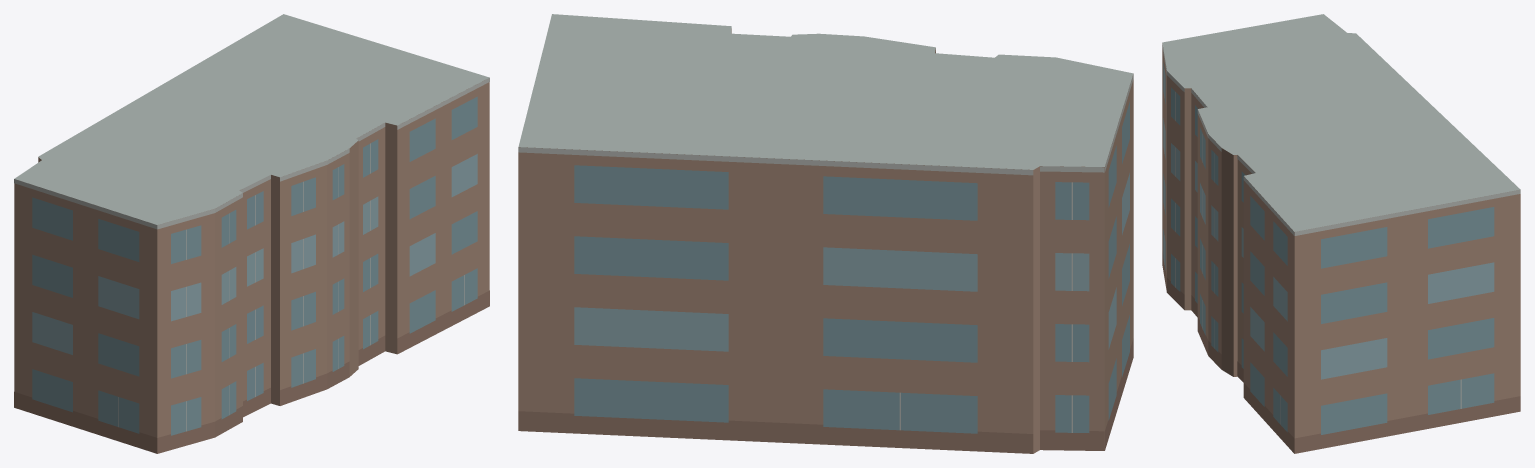
File: survey-upis-32989226.glb
The picture shows the model from 3 angles, left to right: view 1: azimuth 30°, elevation 25°; view 2: azimuth 150°, elevation 25°; view 3: azimuth 270°, elevation 25°; orthographic projection. The views are drawn at different scales.
Visible parts, largest first — view 1: survey-upis-32989226.tmp; view 2: survey-upis-32989226.tmp; view 3: survey-upis-32989226.tmp.
Part boxes in pixels (bbox=[...]): survey-upis-32989226.tmp: bbox=[14, 14, 489, 453]; survey-upis-32989226.tmp: bbox=[518, 14, 1133, 453]; survey-upis-32989226.tmp: bbox=[1162, 14, 1520, 453].
Bounding box in the file's own units: 26.97 × 12.8 × 18.74.
